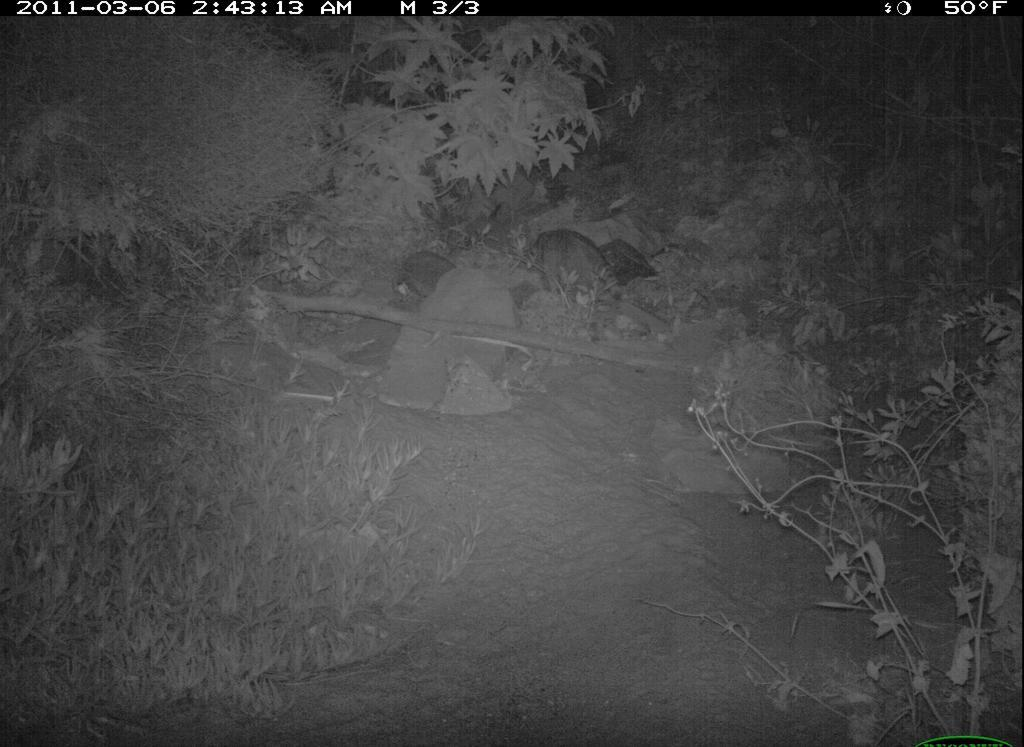raccoon: (513, 210, 635, 308), (397, 241, 466, 305)
